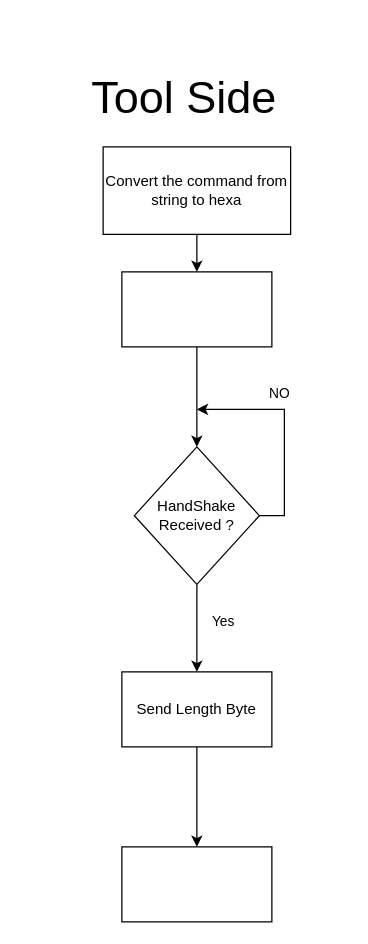
The diagram is 368 pixels wide and 944 high, and some of its shapes have lost their labels. Each missing label, with the centre of its shape:
Send Command: the point at 196,884
Send Dummy Byte = 0xAA: the point at 196,309
